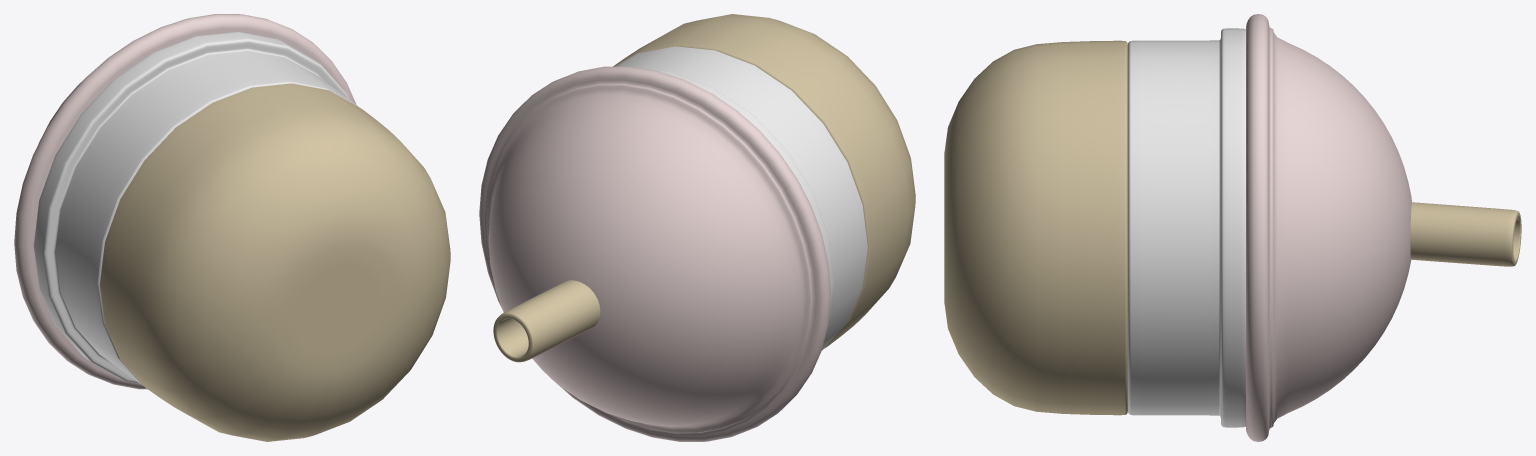
3 views of the same model, side by side, from view 1: azimuth 30°, elevation 25°; view 2: azimuth 150°, elevation 25°; view 3: azimuth 270°, elevation 25° (orthographic). The views are drawn at different scales.
Visible parts, largest first — view 1: naicha1; view 2: naicha1; view 3: naicha1.
Part boxes in pixels (x1,y1,x2,y2): naicha1: (14, 14, 450, 441); naicha1: (479, 14, 915, 441); naicha1: (944, 14, 1521, 441).
Bounding box in the file's own units: 10.63 × 10.63 × 14.32.
